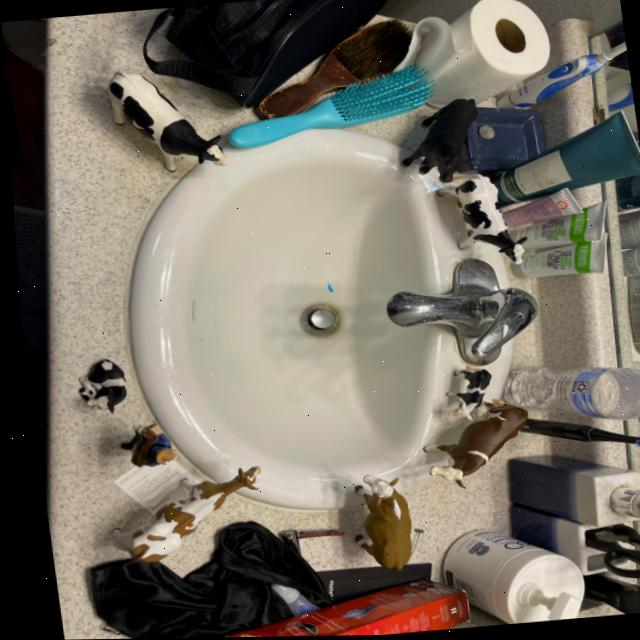cow: (102, 440, 261, 576), (87, 62, 236, 197), (413, 385, 527, 499), (441, 164, 525, 279), (398, 84, 486, 189), (347, 476, 404, 571), (64, 352, 133, 420), (442, 367, 486, 421), (112, 418, 151, 471)
person: (135, 431, 168, 469)
